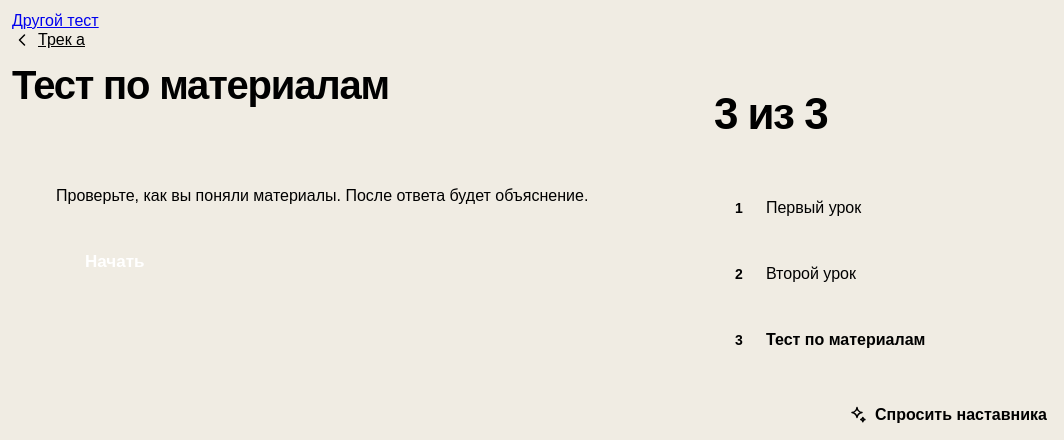
Test: opens the selected assignment assessment instead of retaining the previous local attempt
The image size is (1064, 440).
Step 1. Click the button "Начать" → (115, 261), box [56,233,173,289]
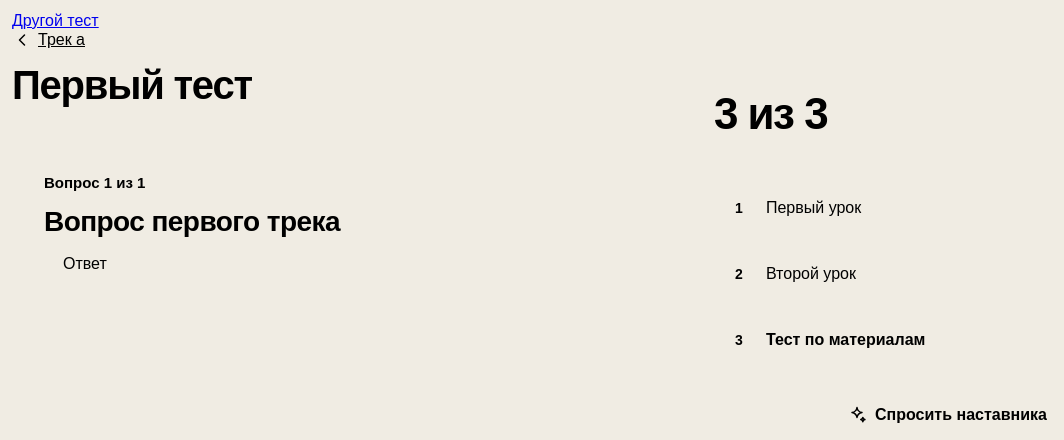
Expected: the heading "Вопрос первого трека" is shown, [44,206,340,237]
Step 2. Click the link "Другой тест" → (55, 20), box [12,12,99,29]
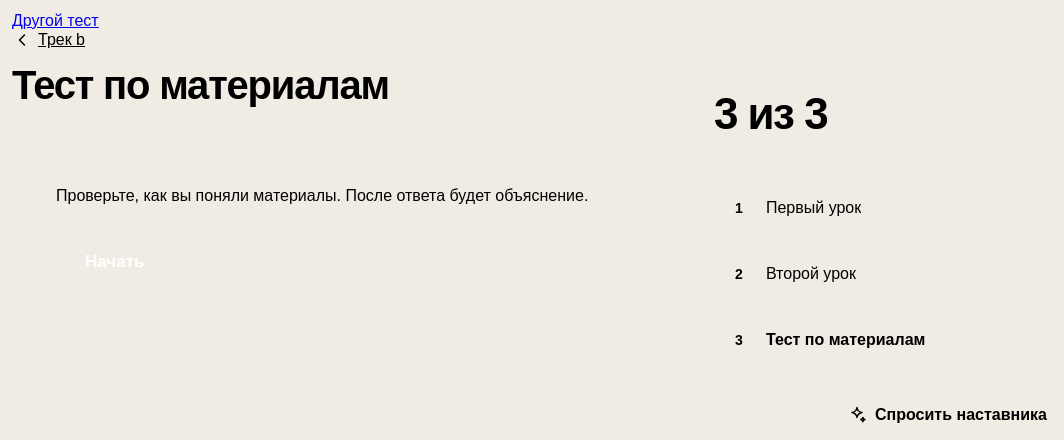
Expected: the button "Начать" is shown, [56,233,173,289]
Expected: the heading "Вопрос первого трека" is gone
